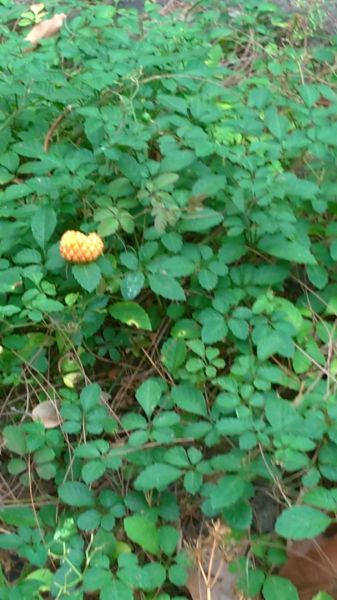eggs: (51, 221, 110, 268)
